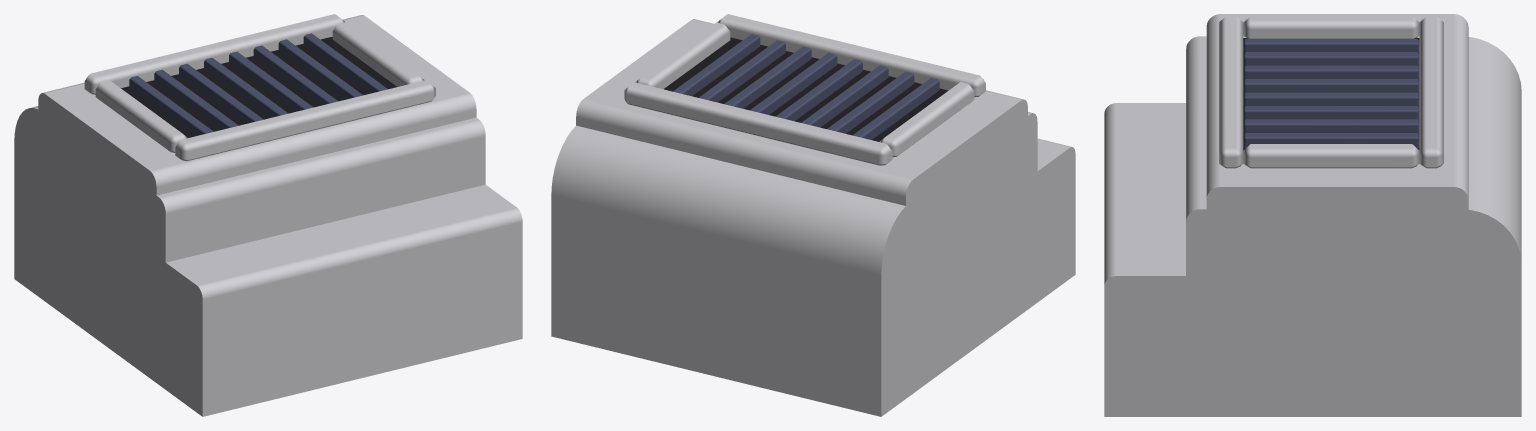
Rendered from roof.shoulder.straight.vent.s1.glb.
The picture shows the model from 3 angles, left to right: view 1: azimuth 30°, elevation 25°; view 2: azimuth 150°, elevation 25°; view 3: azimuth 270°, elevation 25°; orthographic projection. The views are drawn at different scales.
Parts seen in each view (by area): view 1: roof.shoulder.straight.vent.s1; view 2: roof.shoulder.straight.vent.s1; view 3: roof.shoulder.straight.vent.s1.
Part boxes in pixels (box(x1,y1,x2,y2)): roof.shoulder.straight.vent.s1: box(14, 14, 522, 416); roof.shoulder.straight.vent.s1: box(551, 14, 1075, 416); roof.shoulder.straight.vent.s1: box(1104, 14, 1521, 416).
Bounding box in the file's own units: 1 × 0.67 × 1.02.
